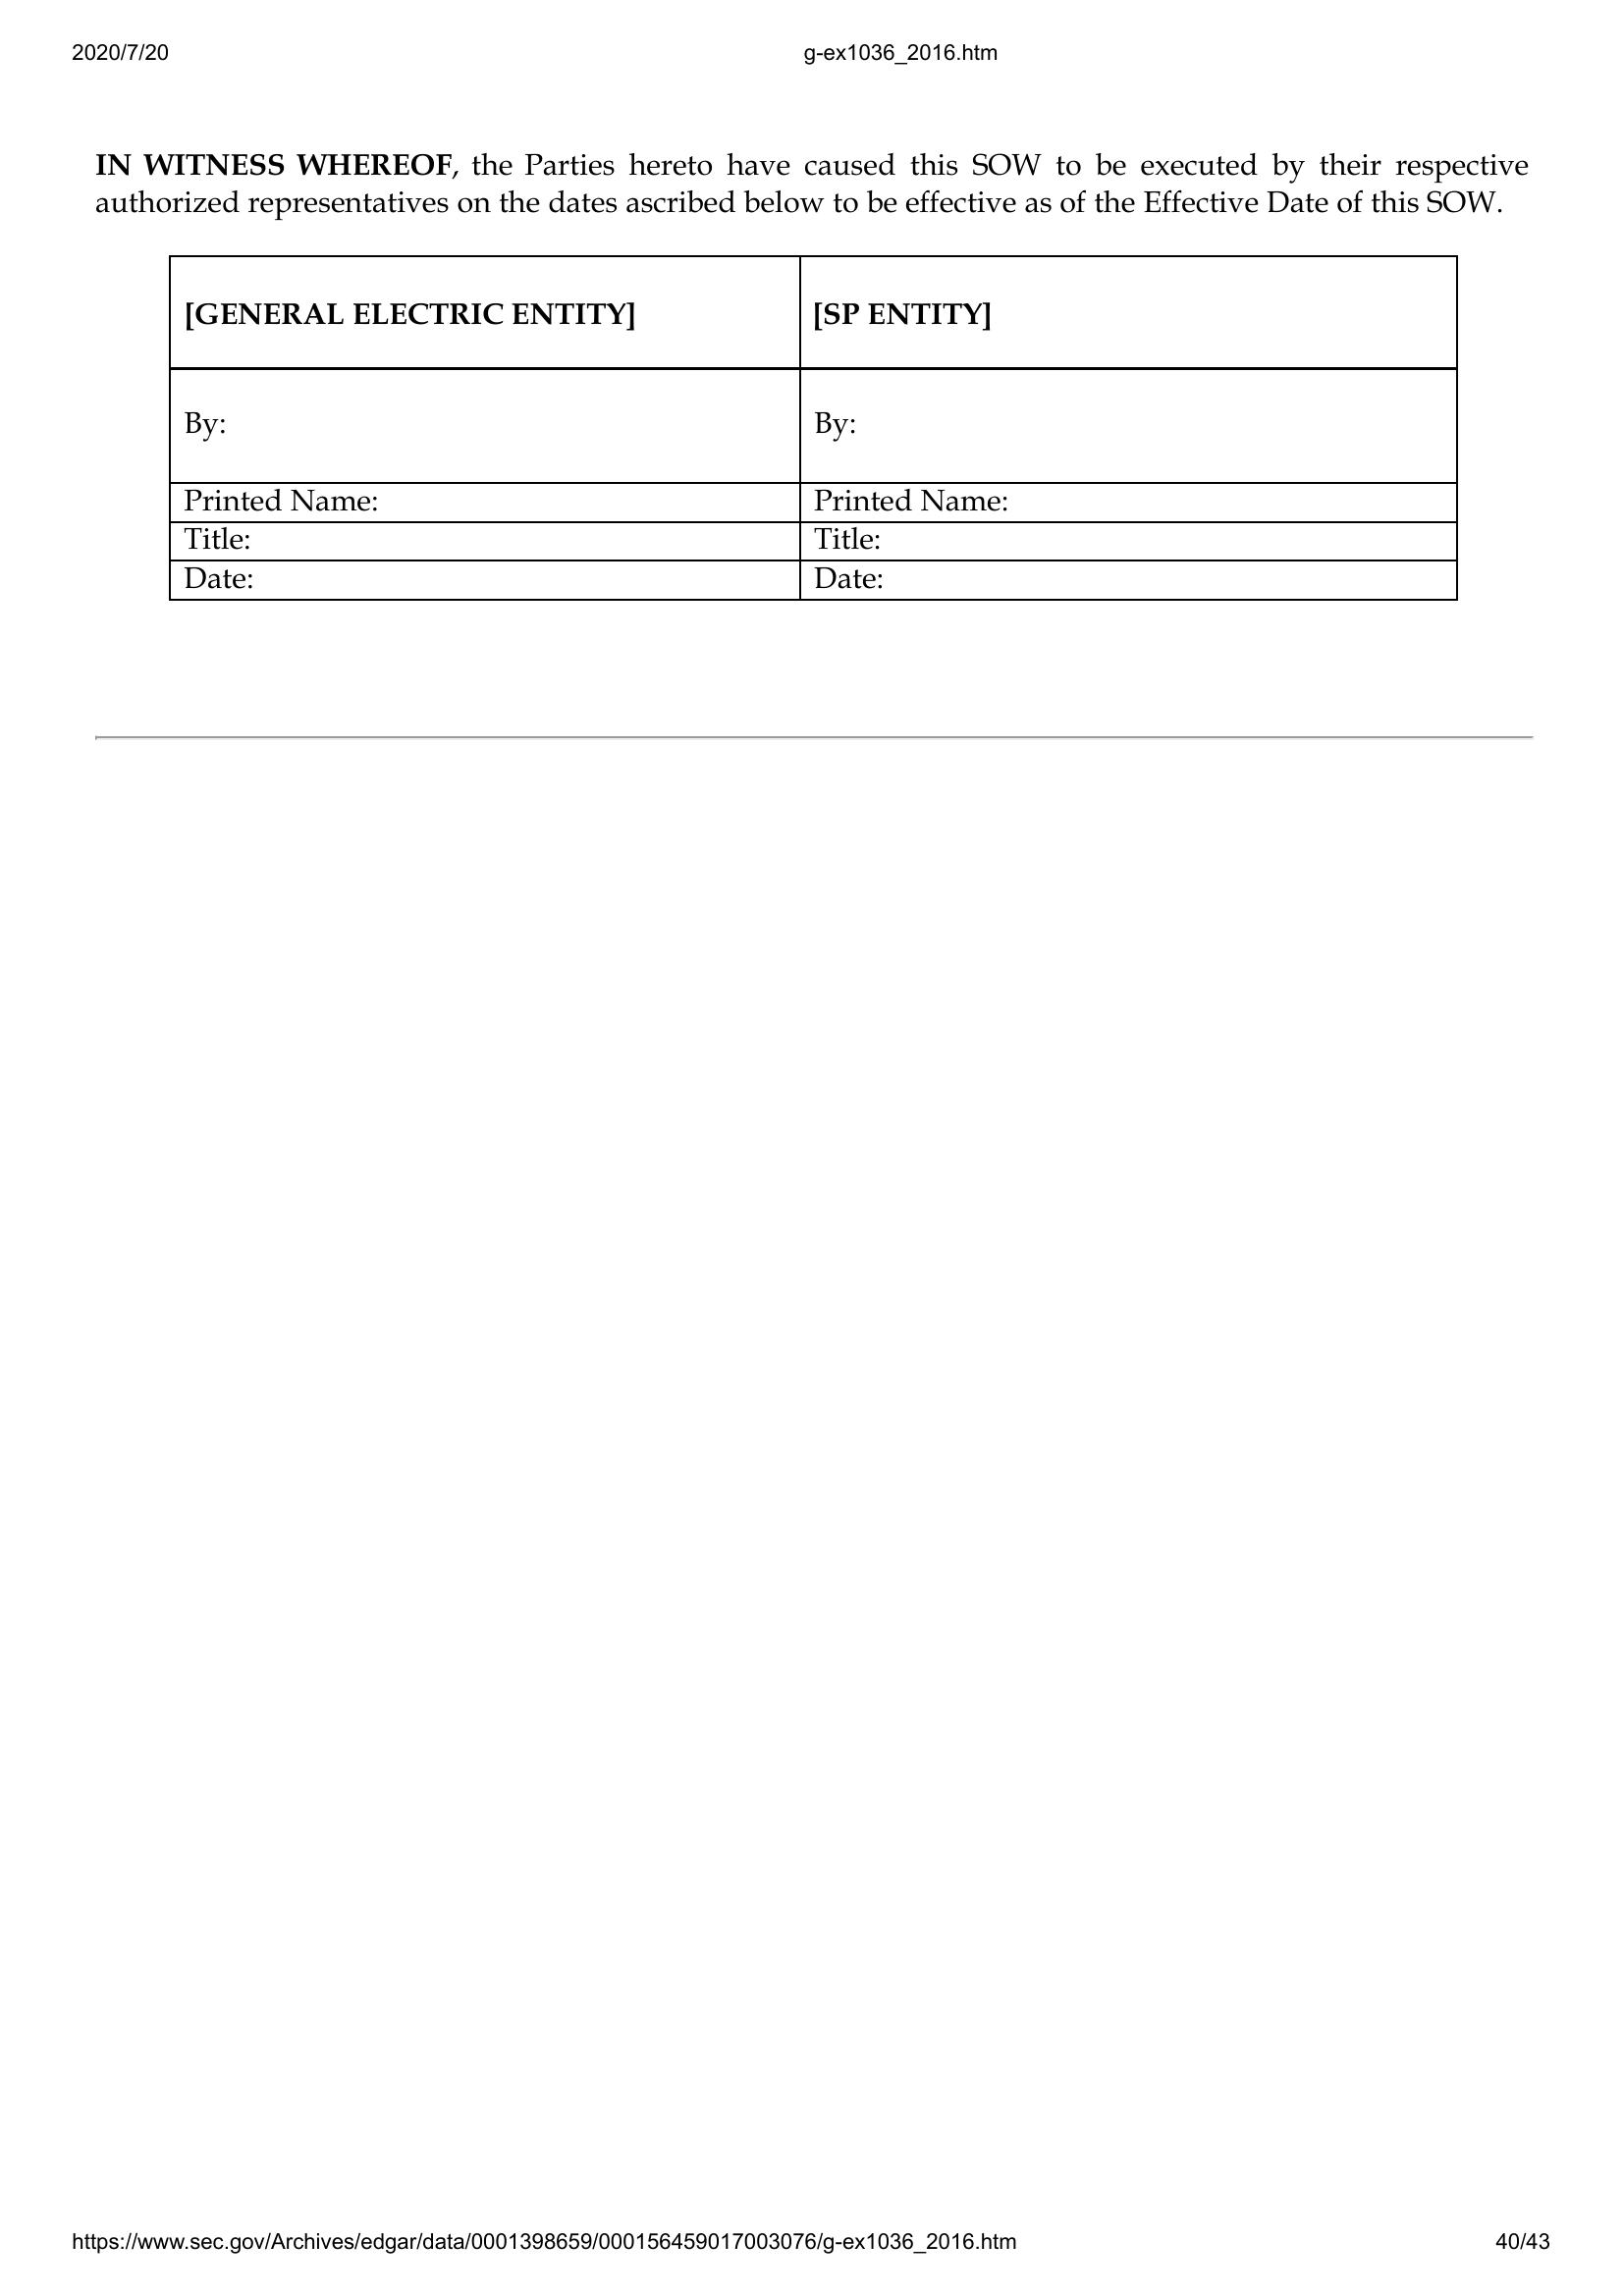table: (160, 249, 1468, 614)
